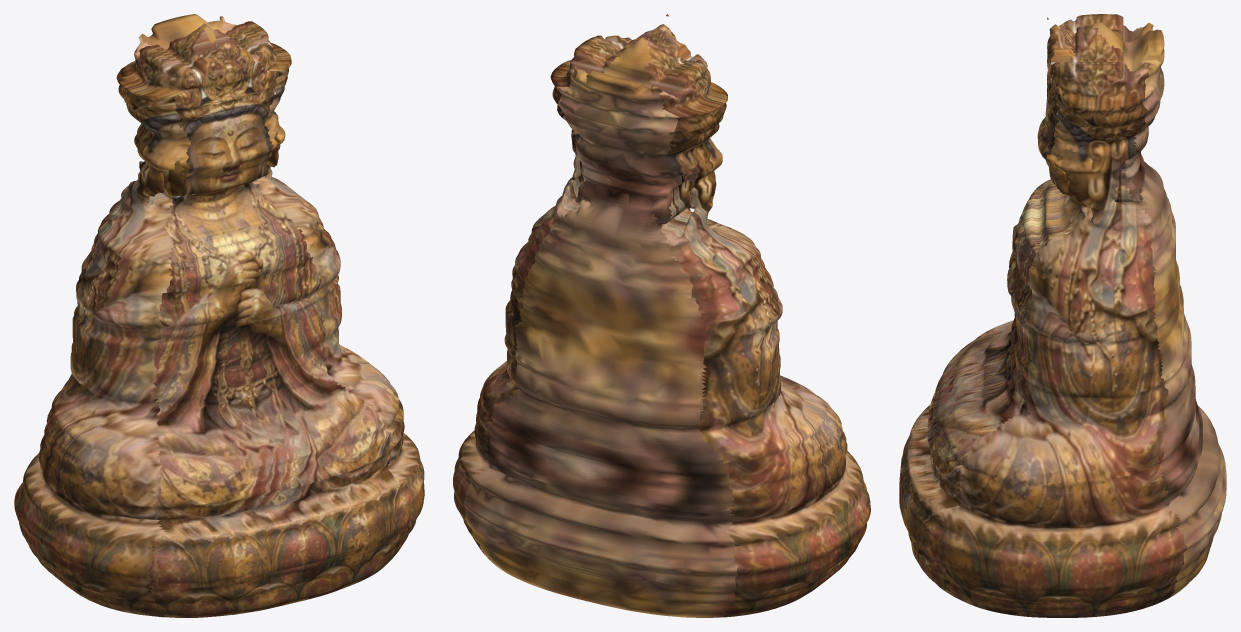
File: vairocana.glb
3 views of the same model, side by side, from view 1: azimuth 30°, elevation 25°; view 2: azimuth 150°, elevation 25°; view 3: azimuth 270°, elevation 25° (orthographic). The views are drawn at different scales.
Parts seen in each view (by area): view 1: vairocana; view 2: vairocana; view 3: vairocana.
Boxes of the visible parts, x1,y1,x2,y2 form: vairocana: (14,14,424,617); vairocana: (453,14,870,617); vairocana: (899,14,1226,617).
Bounding box in the file's own units: 0.7297 × 1.01 × 0.5675.
1 material, 1 textured.
